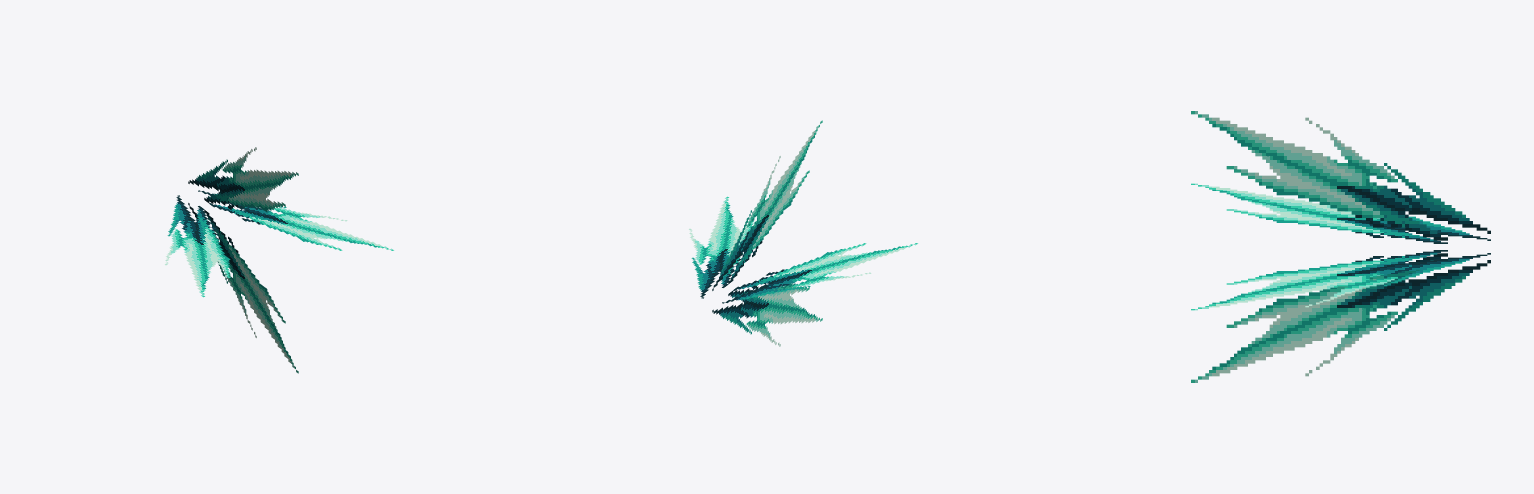
File: vfx_gale_thrust_2.gltf
The picture shows the model from 3 angles, left to right: view 1: azimuth 30°, elevation 25°; view 2: azimuth 150°, elevation 25°; view 3: azimuth 270°, elevation 25°; orthographic projection. The views are drawn at different scales.
Parts seen in each view (by area): view 1: cube (×4); view 2: cube (×4); view 3: cube (×4).
Part boxes in pixels (box(x1,y1,x2,y2)): cube (×4): box(165, 147, 393, 373); cube (×4): box(689, 120, 917, 346); cube (×4): box(1191, 111, 1490, 382).
Size of the model in its own units: 2.25 by 2.25 by 2.
1 material, 1 textured.
